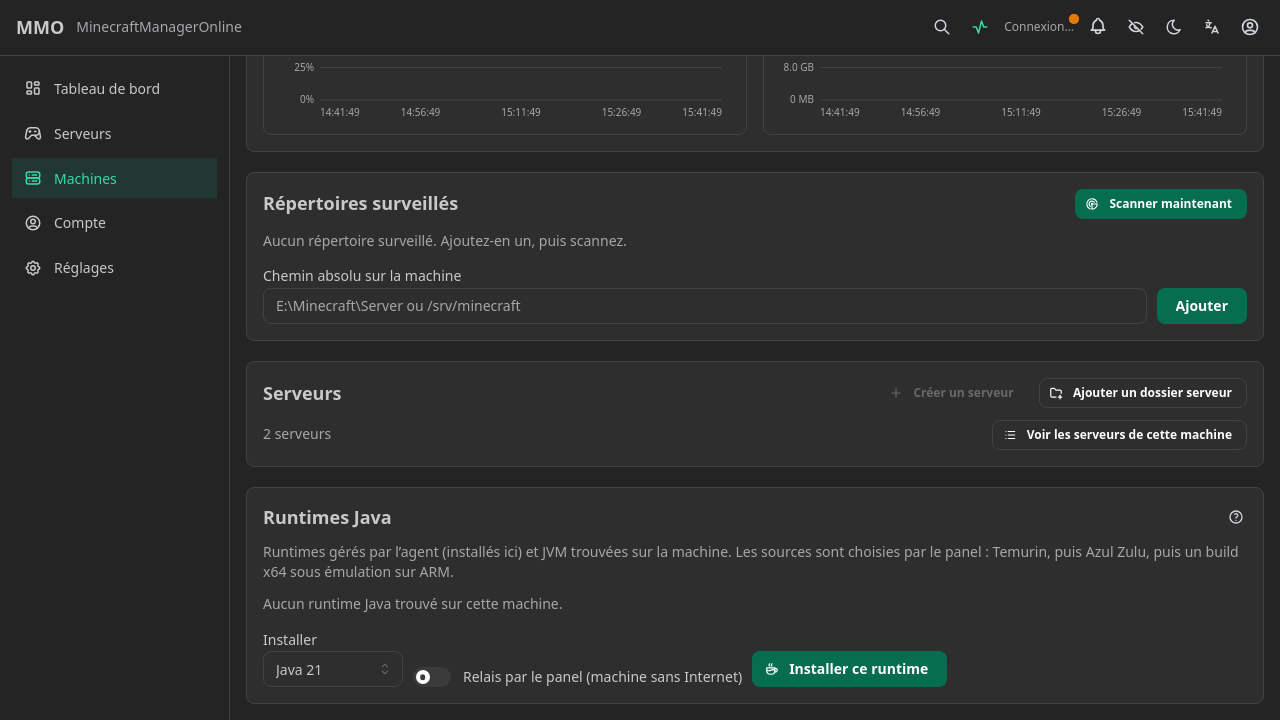
it: App › page machine : pas de liste de serveurs, un lien vers la liste filtrée sur la machine
This screenshot has width=1280, height=720.
(page scrolled)
Check: the text with test id "machine-servers-count" reads "2 serveurs", box x1=263 y1=424 x2=331 y2=444
Click the link with test id "machine-servers-link".
click(1120, 435)  # box x1=992 y1=420 x2=1247 y2=450
(page scrolled)
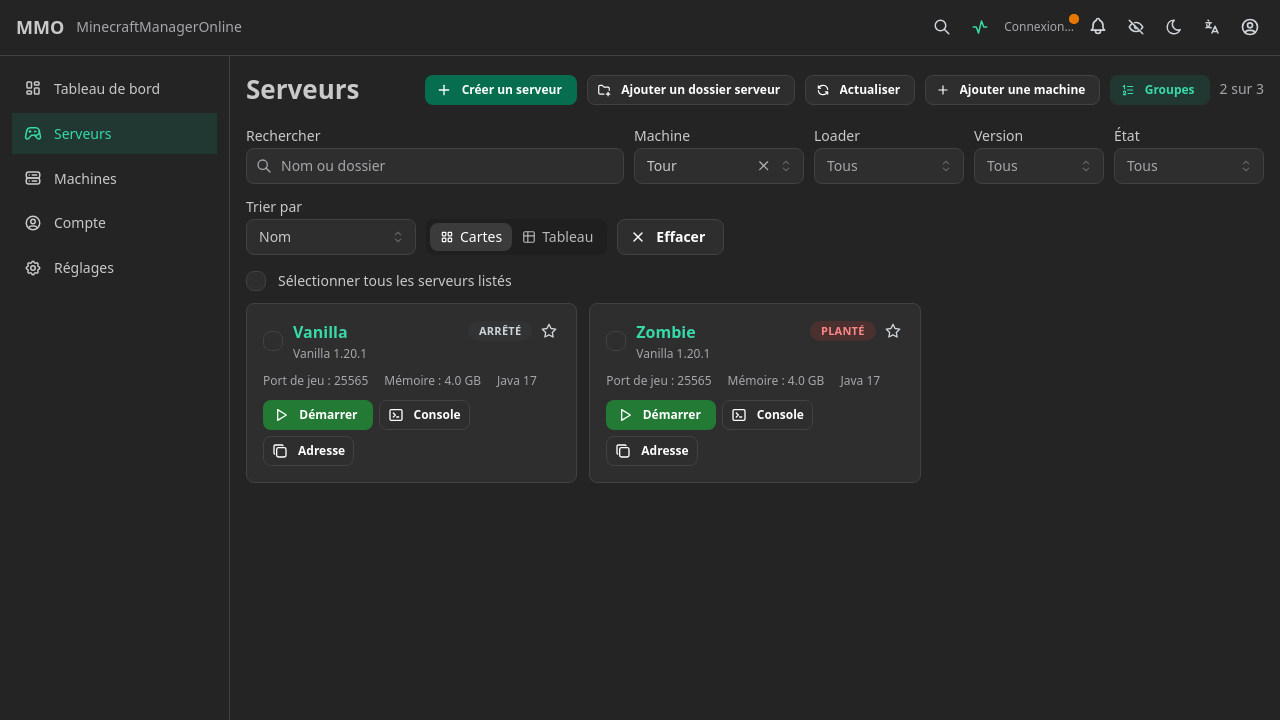
Check: the element with test id "servers-page" is shown, box x1=246 y1=72 x2=1264 y2=483
Check: the text with test id "servers-count" reads "2 sur 3", box x1=1220 y1=79 x2=1264 y2=98
